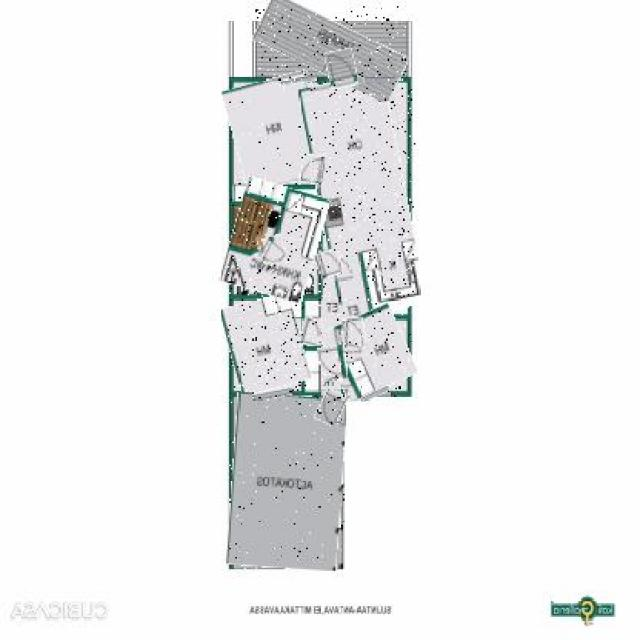door: (328, 49, 358, 88), (318, 344, 348, 382), (319, 389, 346, 425), (300, 153, 325, 184), (258, 236, 284, 264), (343, 318, 366, 348), (316, 251, 342, 277), (300, 317, 322, 346)
window: (252, 388, 292, 398), (278, 75, 317, 83), (360, 388, 389, 398), (363, 77, 395, 83)
zone: (309, 77, 417, 317), (229, 394, 345, 569), (254, 6, 406, 88), (226, 182, 323, 298), (228, 76, 324, 190), (325, 309, 412, 397), (226, 297, 306, 392)
